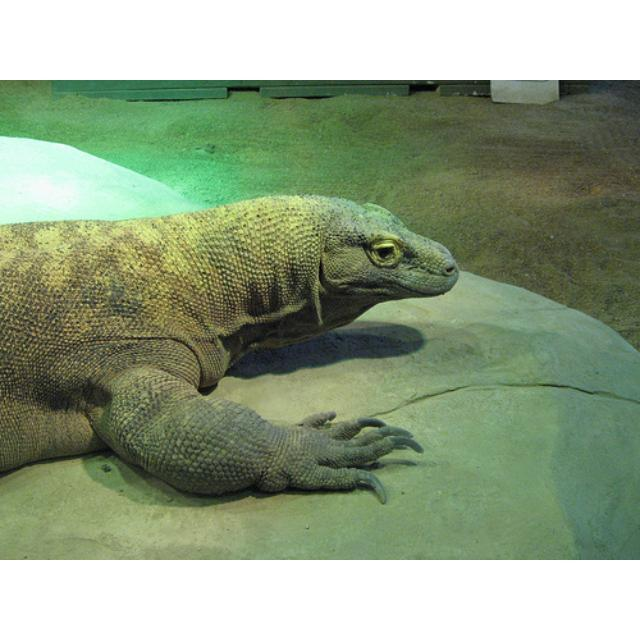KomodoDragon: (1, 189, 452, 503)
